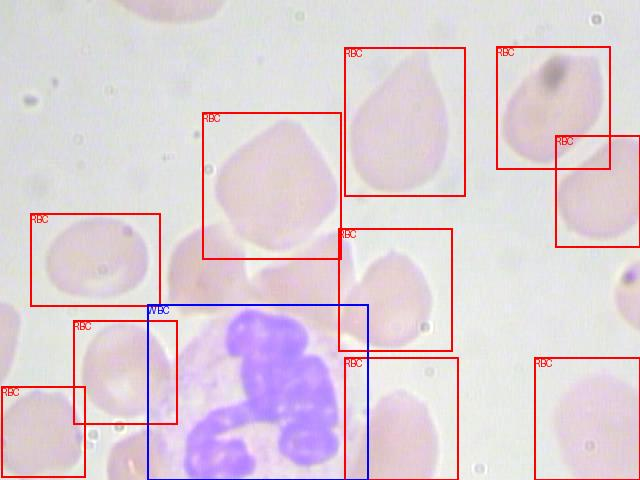RBC: (202, 112, 341, 259), (344, 47, 465, 196), (496, 46, 610, 169), (338, 228, 452, 351), (344, 357, 458, 480), (534, 357, 640, 480), (30, 213, 160, 306), (73, 320, 177, 424), (555, 135, 640, 247), (1, 386, 85, 477)
WBC: (147, 304, 368, 480)
